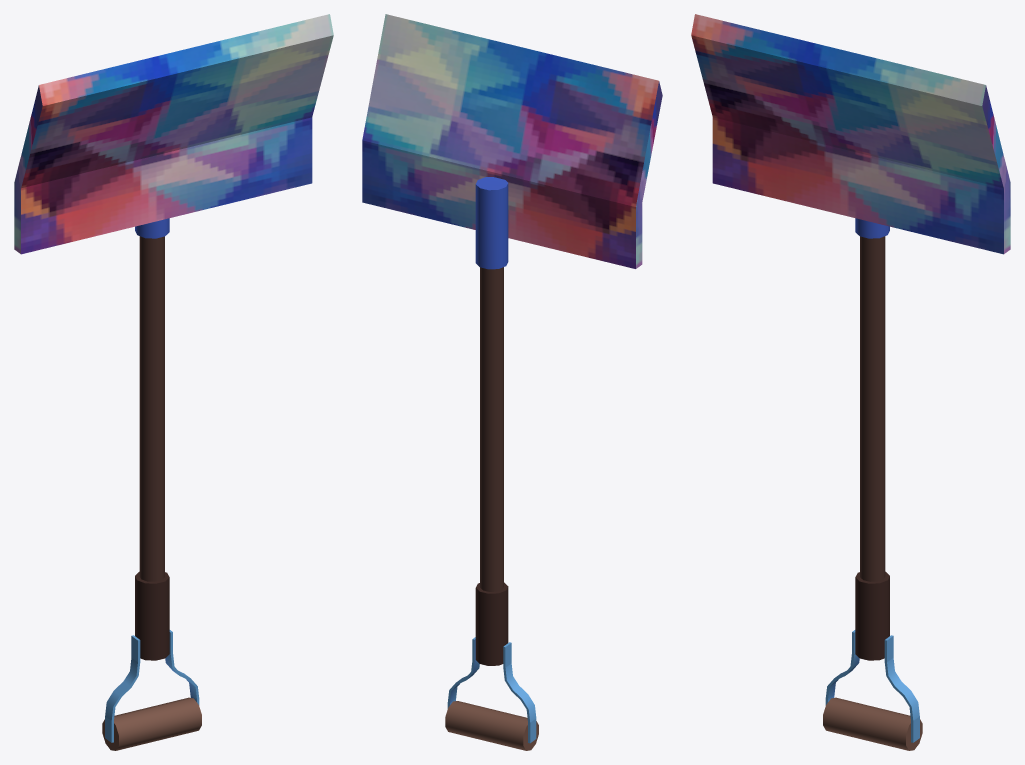
Rendered from Xeng kim cuong.fbx.
3 renders of one model, left to right at view 1: azimuth 30°, elevation 25°; view 2: azimuth 150°, elevation 25°; view 3: azimuth 330°, elevation 25°, orthographic. The views are drawn at different scales.
Parts seen in each view (by area): view 1: L4, C4, TC4; view 2: L4, C4, TC4; view 3: L4, C4, TC4.
Boxes of the visible parts, bbox=[...] form: L4: bbox=[14, 14, 333, 254]; C4: bbox=[139, 236, 164, 581]; TC4: bbox=[102, 571, 201, 750]; L4: bbox=[362, 14, 662, 269]; C4: bbox=[480, 267, 503, 591]; TC4: bbox=[445, 582, 538, 750]; L4: bbox=[691, 14, 1010, 254]; C4: bbox=[860, 236, 885, 581]; TC4: bbox=[823, 571, 922, 750].
Size of the model in its own units: 128 by 301 by 33.8.
